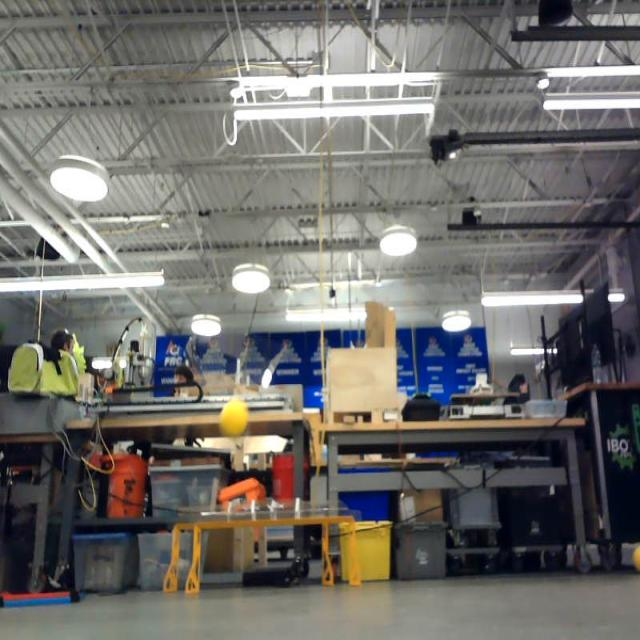Fuel: (220, 399, 248, 436), (634, 546, 640, 571)
